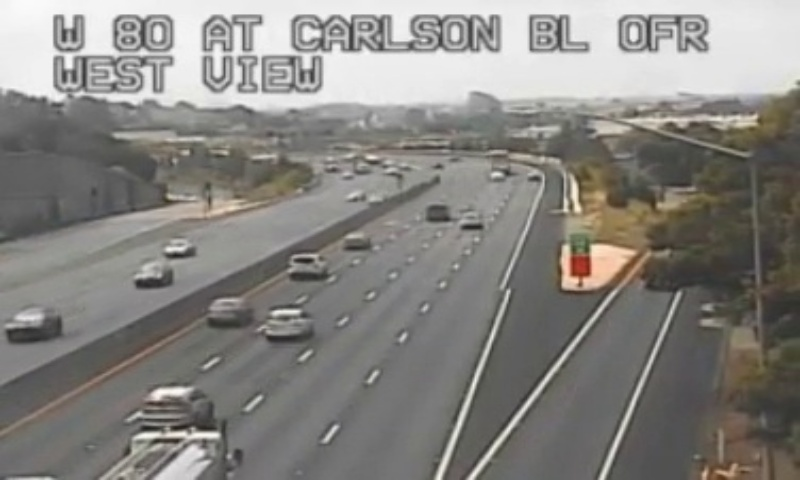car: (142, 386, 214, 424), (263, 306, 312, 341), (206, 297, 248, 324), (287, 252, 325, 277)
